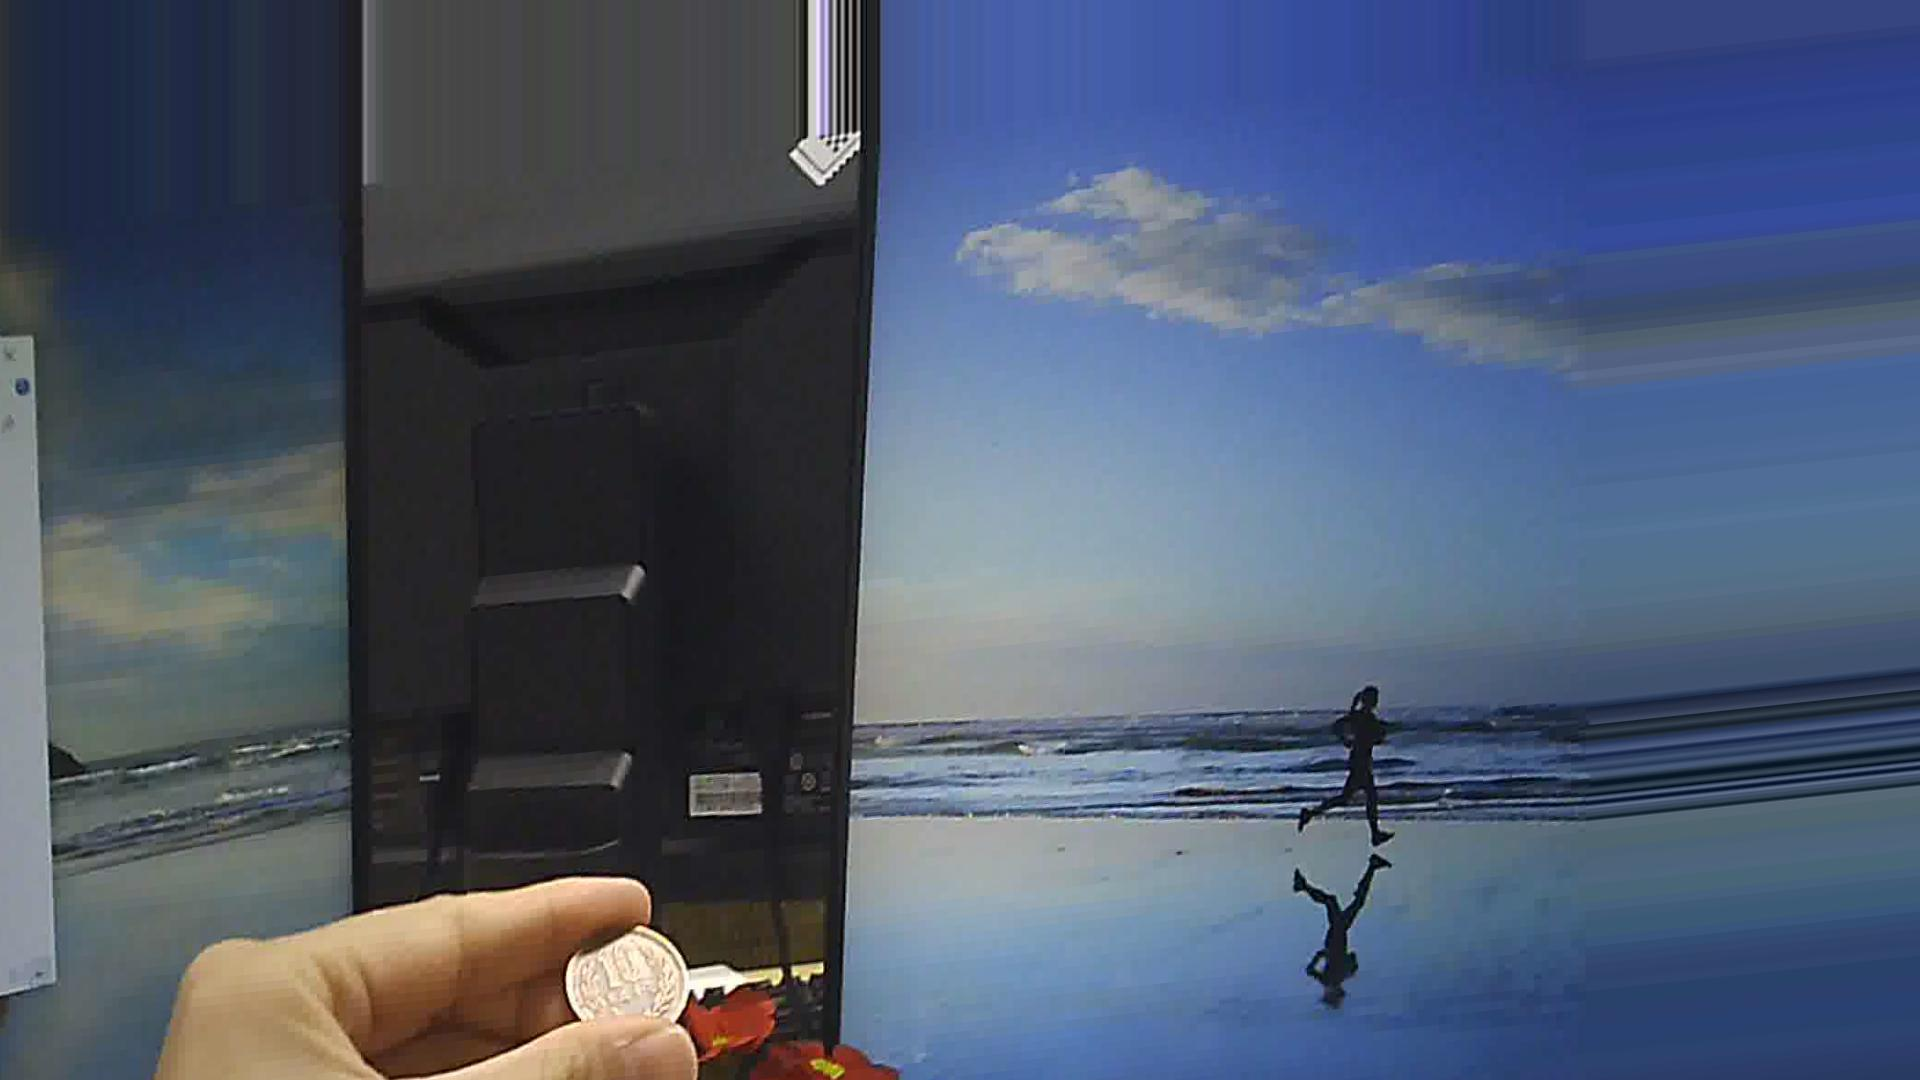10 Yen: (560, 907, 688, 1027)
